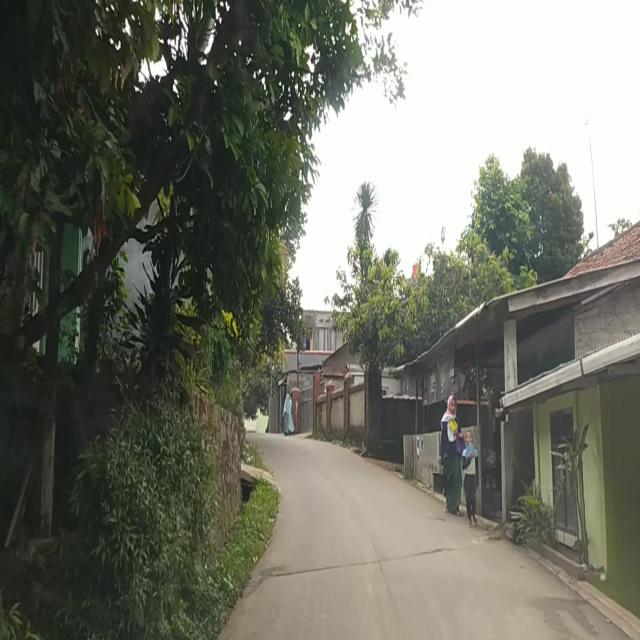Sewer Cover: (262, 543, 470, 577)
